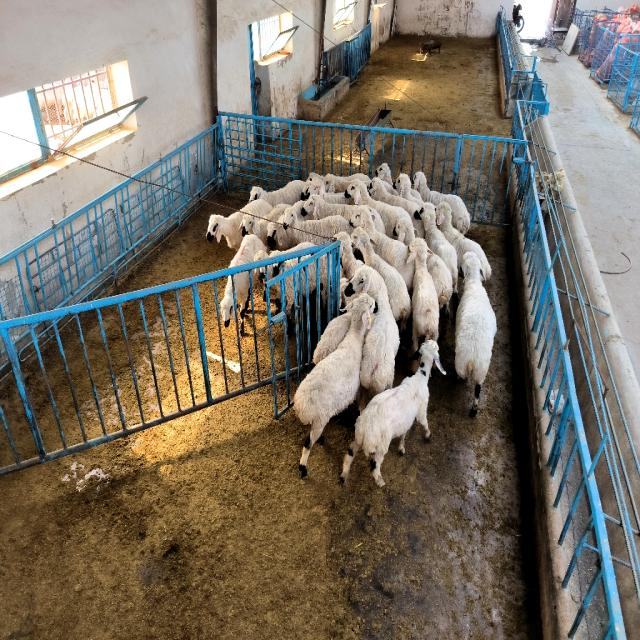sheep: (341, 340, 446, 486), (294, 293, 375, 476), (346, 265, 400, 411), (455, 252, 496, 415), (351, 228, 411, 331), (350, 205, 415, 291), (348, 180, 416, 244), (436, 202, 491, 279), (414, 203, 459, 294), (408, 238, 439, 351), (414, 172, 470, 234), (369, 178, 424, 236), (206, 200, 271, 249), (281, 207, 352, 245), (239, 205, 289, 246), (220, 272, 250, 334), (426, 252, 452, 312), (250, 180, 306, 207), (302, 193, 356, 221), (230, 235, 266, 268), (309, 178, 354, 204), (324, 173, 370, 192), (395, 173, 422, 204), (395, 217, 415, 245), (375, 163, 392, 184)
